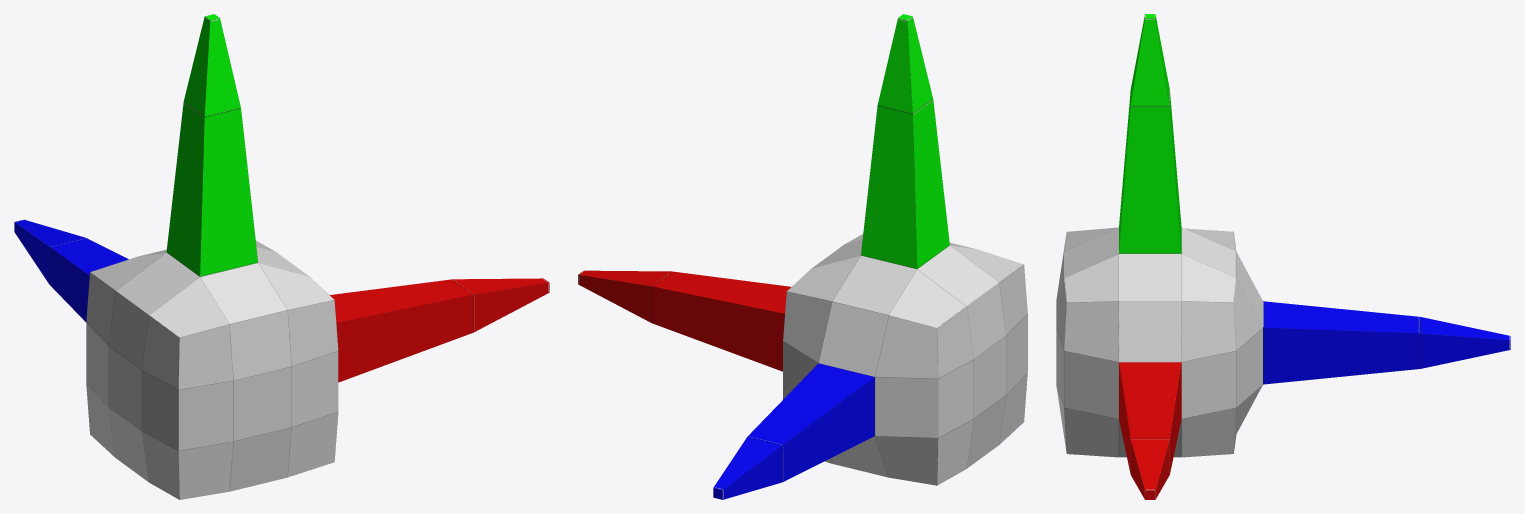
Rendered from gizmo_unity.fbx.
3 views of the same model, side by side, from view 1: azimuth 30°, elevation 25°; view 2: azimuth 150°, elevation 25°; view 3: azimuth 270°, elevation 25° (orthographic). The views are drawn at different scales.
Parts seen in each view (by area): view 1: gizmo_3d_unity; view 2: gizmo_3d_unity; view 3: gizmo_3d_unity.
Part boxes in pixels (<box>): gizmo_3d_unity: <box>14,14,549,499</box>; gizmo_3d_unity: <box>578,14,1027,499</box>; gizmo_3d_unity: <box>1056,14,1510,499</box>.
Size of the model in its own units: 483 by 483 by 483.
1 material, 1 textured.
